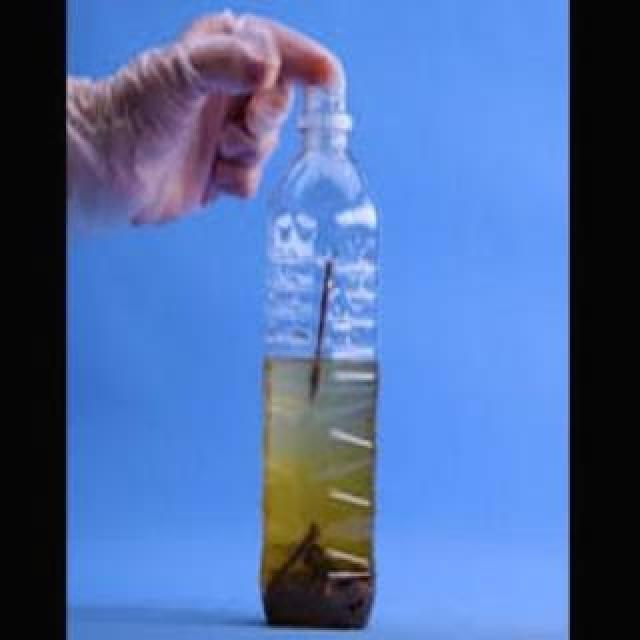Pet_Bottle: (259, 96, 375, 630)
